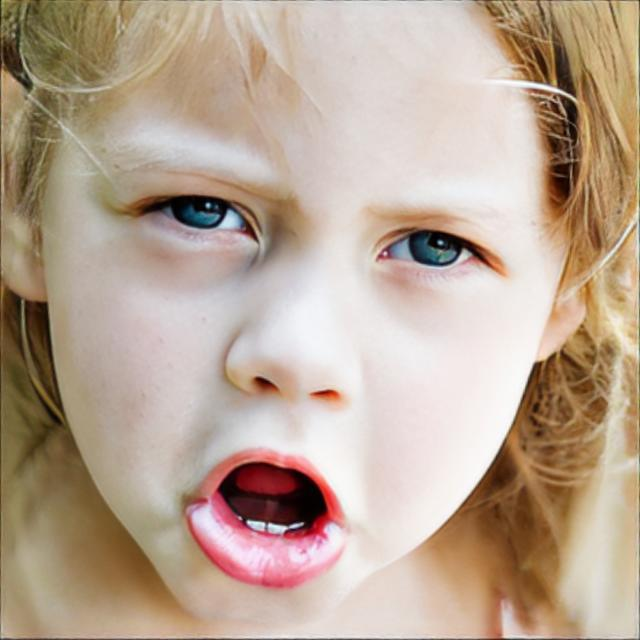anger: (60, 18, 538, 626)
